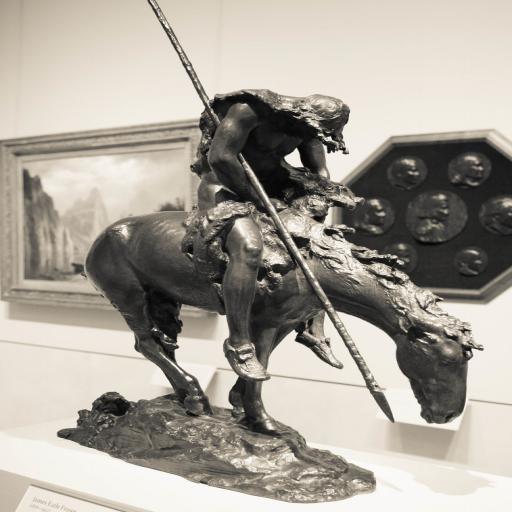horse: (82, 210, 476, 438)
